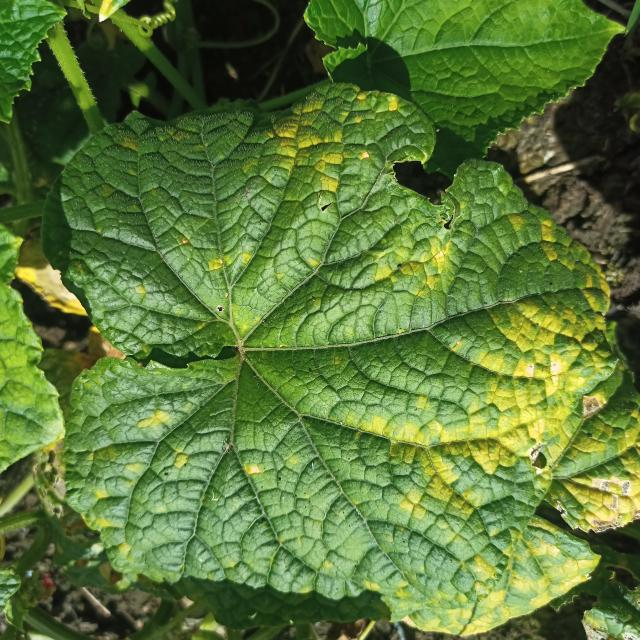disease_cucumber: (367, 279, 640, 627), (268, 95, 468, 296)
